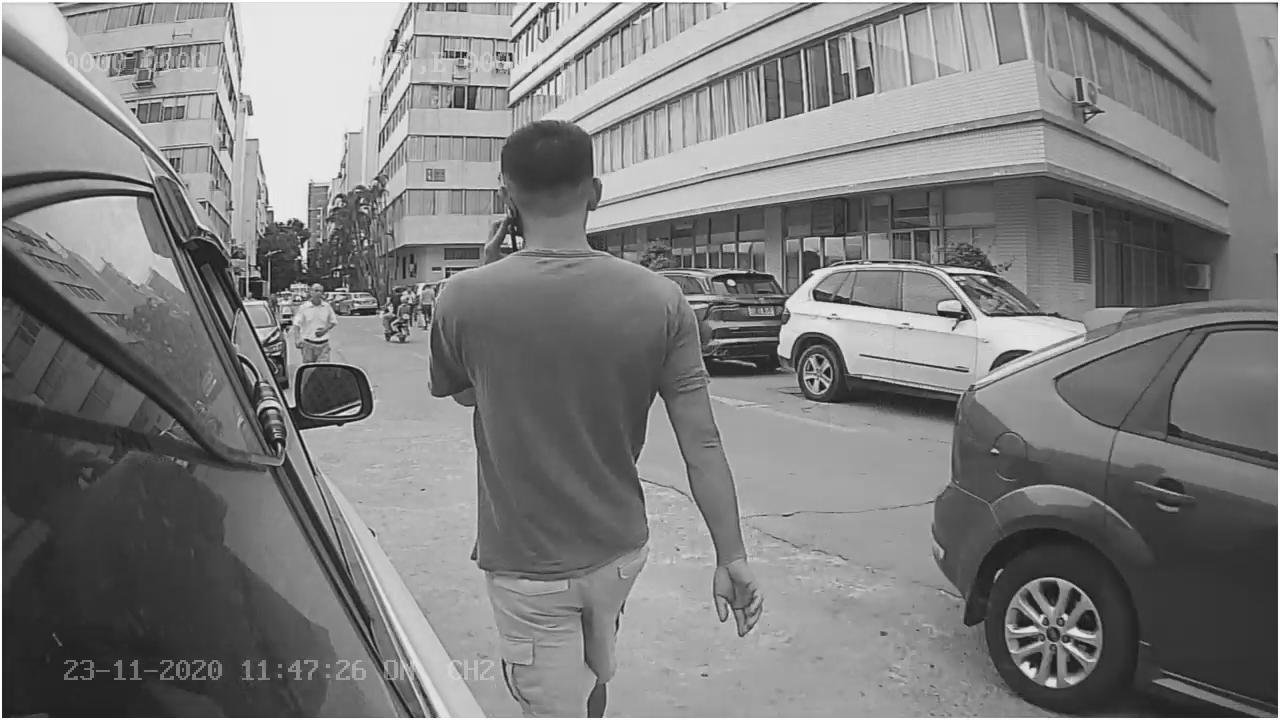person: (427, 81, 769, 629)
